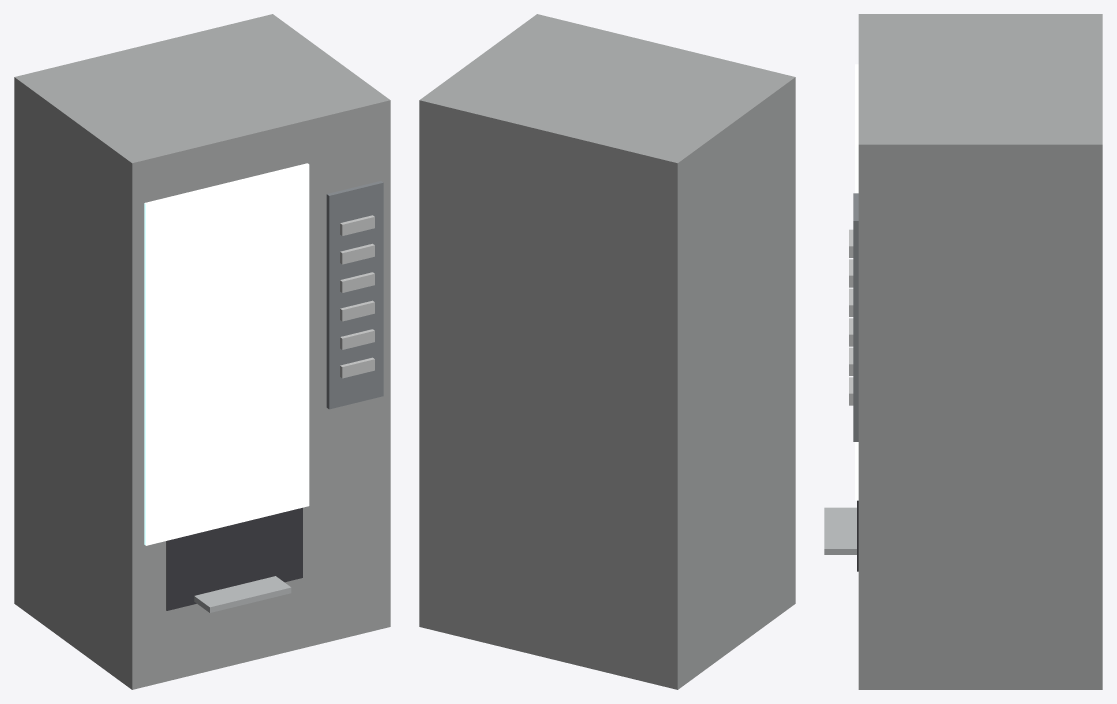
File: Vending_machine_coffee.glb
3 views of the same model, side by side, from view 1: azimuth 30°, elevation 25°; view 2: azimuth 150°, elevation 25°; view 3: azimuth 270°, elevation 25° (orthographic). The views are drawn at different scales.
Parts seen in each view (by area): view 1: Vending_machine_coffee; view 2: Vending_machine_coffee; view 3: Vending_machine_coffee.
Boxes of the visible parts, x1=… form: Vending_machine_coffee: x1=14, y1=14, x2=390, y2=689; Vending_machine_coffee: x1=419, y1=14, x2=795, y2=689; Vending_machine_coffee: x1=824, y1=14, x2=1102, y2=689.
Bounding box in the file's own units: 0.95 × 1.85 × 0.855.
